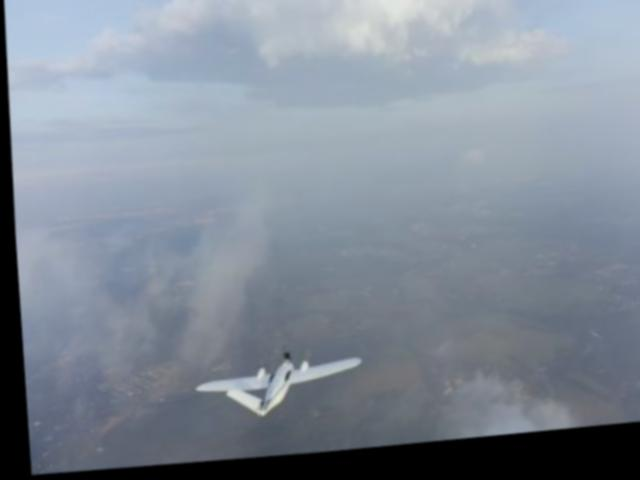uav: (187, 344, 365, 431)
